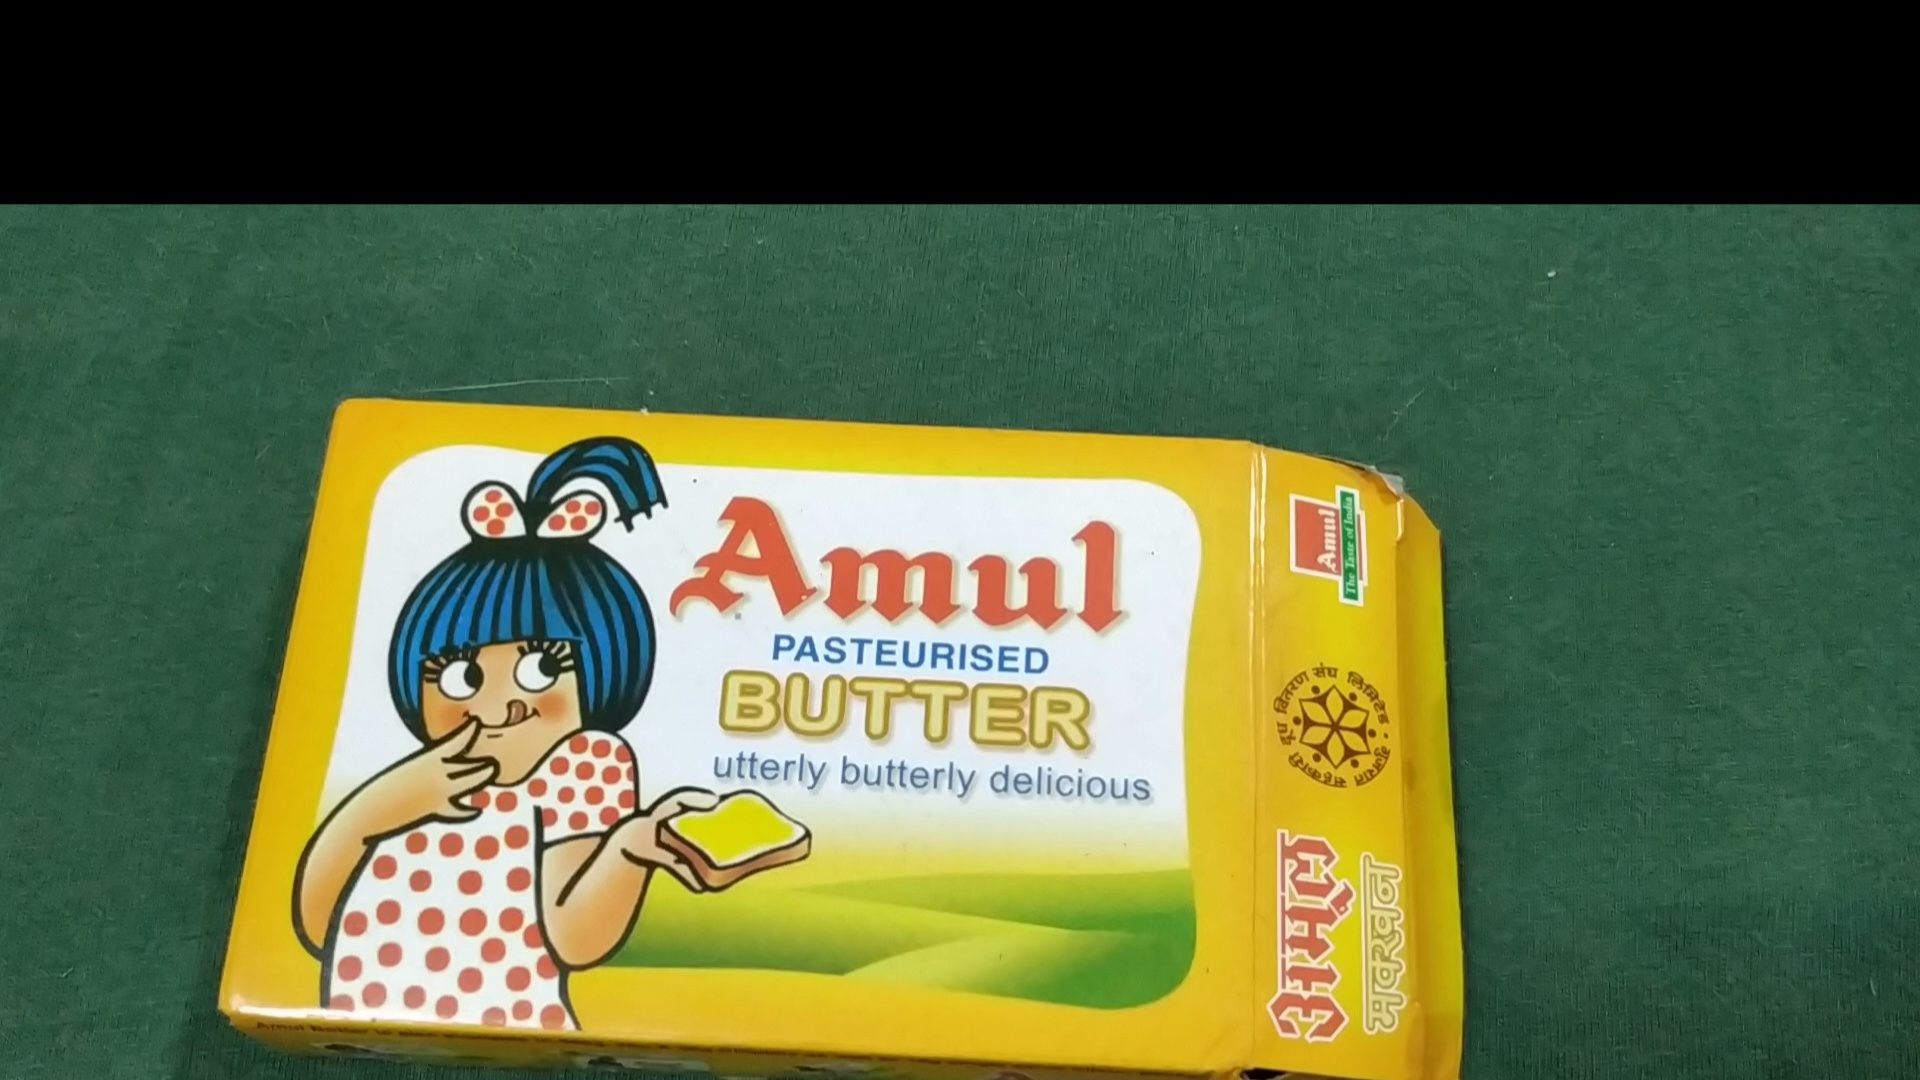amul_butter: (210, 398, 1457, 1080)
